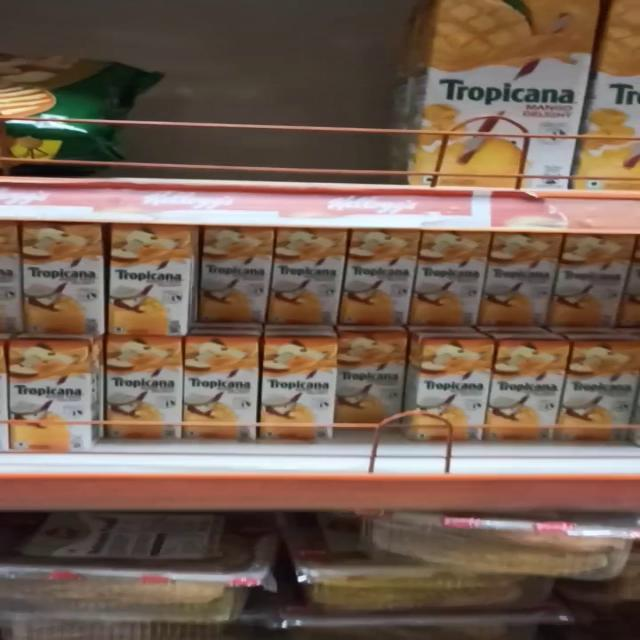Tropicana: (16, 221, 98, 329), (105, 227, 183, 333), (408, 332, 486, 436), (336, 332, 411, 432), (265, 335, 338, 436), (184, 339, 262, 430), (108, 346, 184, 438), (570, 342, 640, 437), (490, 342, 560, 435), (276, 228, 342, 323), (554, 233, 618, 328), (201, 228, 267, 320), (422, 236, 484, 323), (488, 236, 550, 323), (347, 230, 405, 321)
